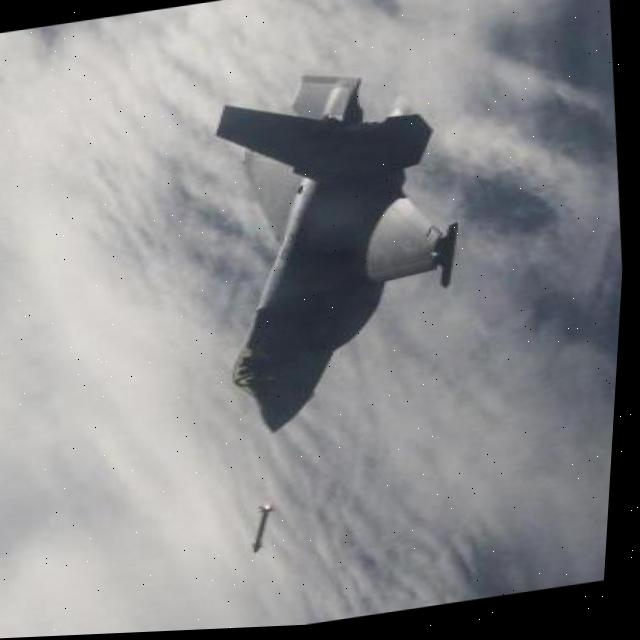missile: (251, 502, 285, 555)
